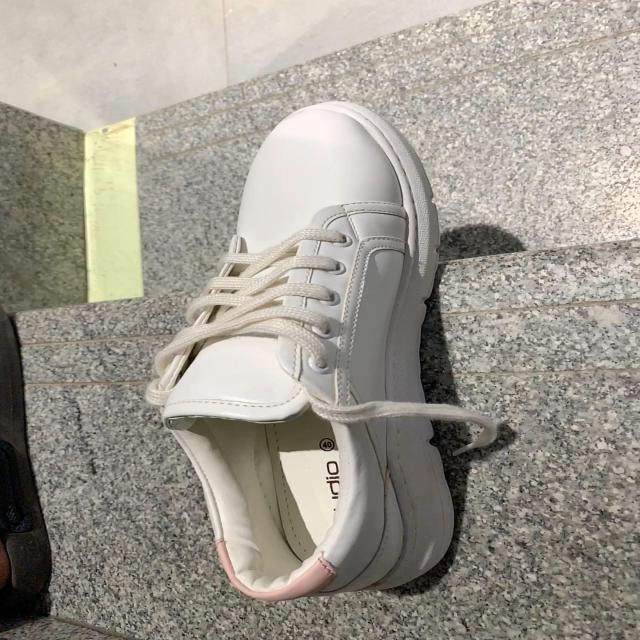shoe: (167, 99, 449, 603)
